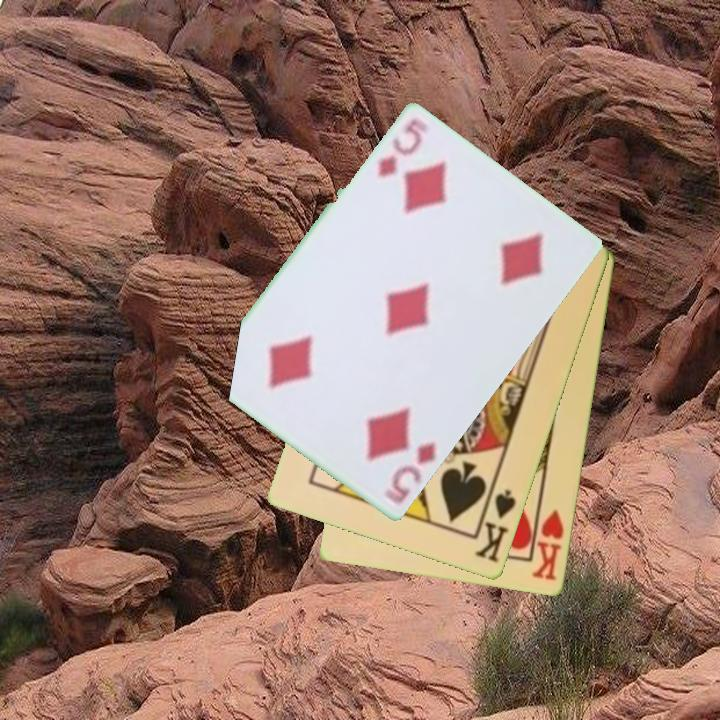5d: (381, 438, 439, 508), (374, 115, 424, 181)
Kh: (529, 500, 567, 584)
Ks: (471, 482, 519, 566)
